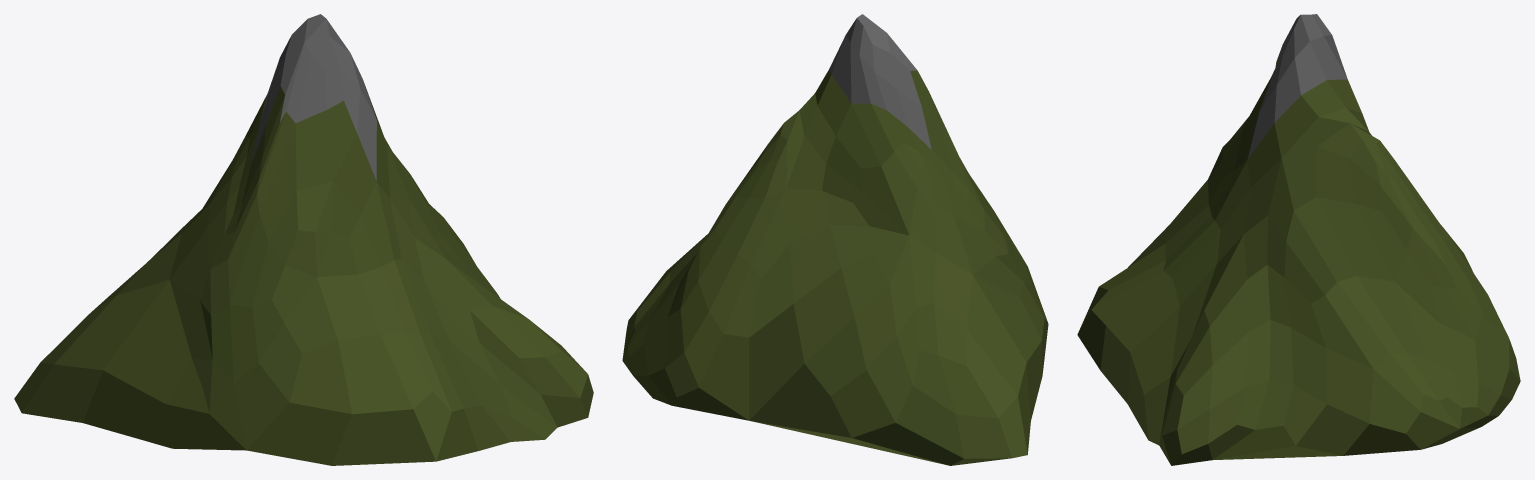
The model's file is Mountain-2_v.1.fbx.
3 views of the same model, side by side, from view 1: azimuth 30°, elevation 25°; view 2: azimuth 150°, elevation 25°; view 3: azimuth 270°, elevation 25° (orthographic). The views are drawn at different scales.
Visible parts, largest first — view 1: Cube.001; view 2: Cube.001; view 3: Cube.001.
Part boxes in pixels (x1,y1,x2,y2): Cube.001: (14, 14, 593, 465); Cube.001: (622, 14, 1048, 465); Cube.001: (1077, 14, 1520, 465).
Size of the model in its own units: 2789 by 2364 by 2595.
